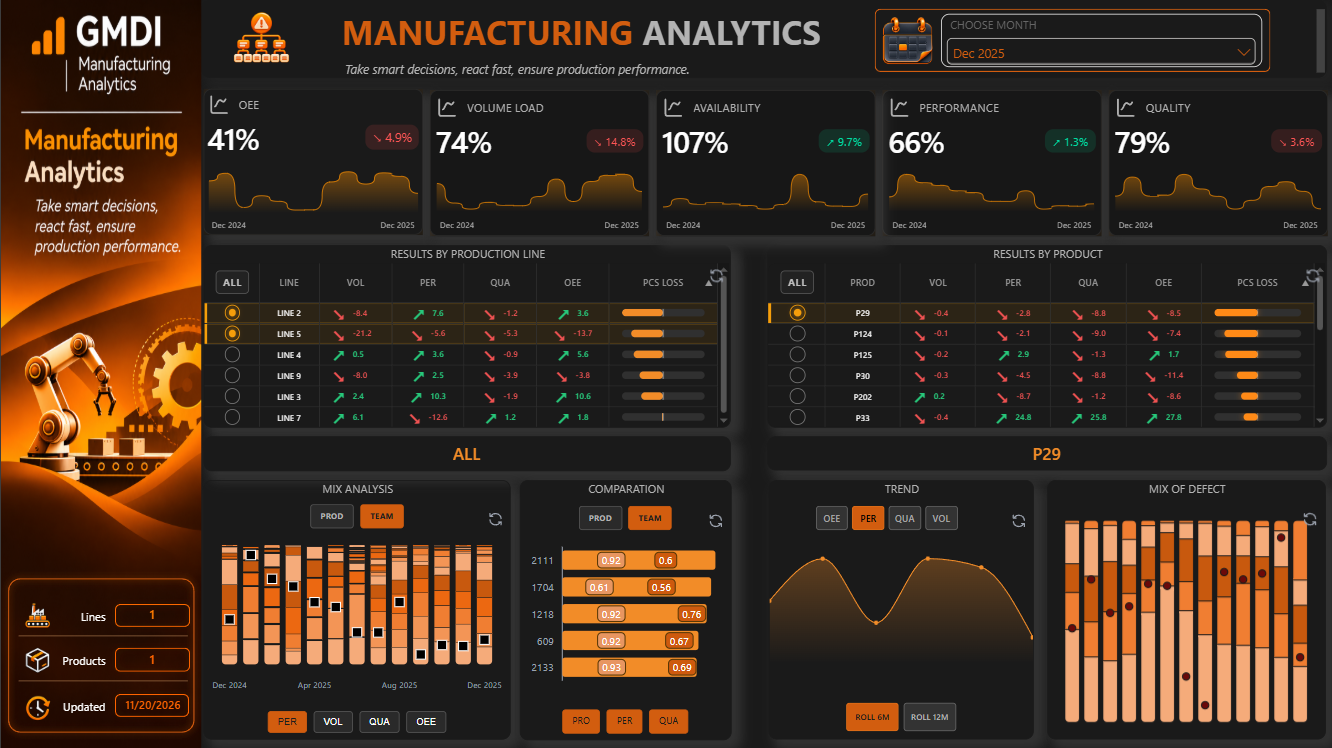

The page's visual inventory and layout, read from the dashboard file:
{"tool":"powerbi","page":{"name":"OEE REPORT","canvas":[1280,720],"ordinal":0},"visuals":[{"type":"textbox","box":[192,0,1079,74],"z":0},{"type":"shape","box":[838.2,8.7,379.4,60.6],"z":1000},{"type":"textbox","box":[0,74.4,178.9,31.1],"z":2000},{"type":"image","box":[840,14.4,58.9,48.9],"z":3000},{"type":"slicer","fields":{"Values":["Dim_Date.YearMonth"]},"box":[901.1,13.3,307.8,51.1],"z":4000},{"type":"gMDIKPICardCF49CA4C62AD4375B8151114AD89D5C0","fields":{"kpiValue":["MeasuresCollection.OEE"],"trendValue":["MeasuresCollection.OEE vs Last Month pp KI"],"trendDate":["Dim_ChartMonth.MonthStart"],"trendHistory":["MeasuresCollection.OEE Rolling 12M"]},"box":[194.4,85.6,210,140],"z":5000},{"type":"gMDIKPICardCF49CA4C62AD4375B8151114AD89D5C0","fields":{"trendDate":["Dim_ChartMonth.MonthStart"],"kpiValue":["MeasuresCollection.VOLUME LOAD"],"trendValue":["MeasuresCollection.VOLUME LOAD vs Last Month pp KI"],"trendHistory":["MeasuresCollection.VOLUME LOAD Rolling 12M"]},"box":[411.4,86.5,210,140],"z":6000},{"type":"gMDIKPICardCF49CA4C62AD4375B8151114AD89D5C0","fields":{"trendDate":["Dim_ChartMonth.MonthStart"],"trendHistory":["MeasuresCollection.PERFORMANCED Rolling 12M"],"kpiValue":["MeasuresCollection.PERFORMANCE"],"trendValue":["MeasuresCollection.PERFORMANCE vs Last month pp KI"]},"box":[845.2,86.5,210,140],"z":7000},{"type":"gMDIKPICardCF49CA4C62AD4375B8151114AD89D5C0","fields":{"trendDate":["Dim_ChartMonth.MonthStart"],"kpiValue":["MeasuresCollection.QUALITY"],"trendHistory":["MeasuresCollection.QUALITY Rolling 12M"],"trendValue":["MeasuresCollection.QUALITY vs Last month pp KI"]},"box":[1062.1,86.5,210,140],"z":8000},{"type":"gMDIDataTableBD95C09AE30643DA9A8C90D86C48B46F","title":"RESULTS BY PRODUCTION LINE","fields":{"category":["Dim_Line.Display_Name"],"measures":["MeasuresCollection.VOLUME LOAD vs Last Month pp KI","MeasuresCollection.PERFORMANCE vs Last month pp KI","MeasuresCollection.QUALITY vs Last month pp KI","MeasuresCollection.OEE vs Last Month pp KI","MeasuresCollection.TOTAL PCS LOSS"]},"box":[194.4,234.4,505.6,175.6],"z":9000},{"type":"gMDIDataTableBD95C09AE30643DA9A8C90D86C48B46F","title":"RESULTS BY PRODUCT","fields":{"measures":["MeasuresCollection.VOLUME LOAD BY PROD vs Last Month pp","MeasuresCollection.PERFORMANCE BY PROD vs Last month pp KI","MeasuresCollection.QUALITY BY PROD vs Last month pp KI","MeasuresCollection.OEE BY PROD vs Last Month pp KI","MeasuresCollection.TOTAL PCS LOSS"],"category":["ArticleBase.ProductName"]},"box":[734.4,234.4,536.7,175.6],"z":10000},{"type":"cardVisual","fields":{"Data":["MeasuresCollection.SELECTED LINE"]},"box":[194.4,417.8,505.6,33.3],"z":11000},{"type":"image","box":[217.8,8.9,63.3,55.6],"z":12000},{"type":"cardVisual","fields":{"Data":["MeasuresCollection.SELECTED PRODUCT"]},"box":[734.4,417.8,536.7,33],"z":13000},{"type":"gmdiMixAnalysis724970BA8259407F8146C7C550D96011","title":"MIX ANALYSIS","fields":{"period":["Dim_ChartMonth.MonthStart"],"value":["MeasuresCollection.PRODUCED Rolling 12M"],"mixCategory2":["Dim_Team.Team"],"secondaryKPI":["MeasuresCollection.PERFORMANCED Rolling 12M"],"secondaryKPI1":["MeasuresCollection.PERFORMANCED Rolling 12M"],"secondaryKPI2":["MeasuresCollection.VOLUME LOAD Rolling 12M"],"secondaryKPI3":["MeasuresCollection.QUALITY Rolling 12M"],"secondaryKPI4":["MeasuresCollection.OEE Rolling 12M"],"mixCategory1":["ArticleBase.ProductName"]},"box":[194.4,460,294.4,249],"z":14000},{"type":"F125087AA5064CCDA1C6973BD3927F42","title":"COMPARATION","fields":{"measure1":["MeasuresCollection.PRODUCED"],"measure2":["MeasuresCollection.PERFORMANCE BY PROD"],"measure3":["MeasuresCollection.QUALITY BY PROD"],"category2":["Dim_Team.Team"],"category1":["ArticleBase.ProductName"]},"box":[496.9,460,203.1,249.2],"z":15000},{"type":"gmdiTrendAnalysis724970BA8259407F8146C7C550D96011","title":"TREND ","fields":{"dateAxis":["Dim_ChartMonth.MonthStart"],"trendMeasure1":["MeasuresCollection.OEE Trend"],"trendMeasure2":["MeasuresCollection.Performance Trend"],"trendMeasure3":["MeasuresCollection.QUALITY Trend"],"trendMeasure4":["MeasuresCollection.VOLUME LOAD Trend"]},"box":[735.6,460,254.4,249],"z":16000},{"type":"gmdiMixAnalysis724970BA8259407F8146C7C550D96011","title":"MIX OF DEFECT","fields":{"mixCategory1":["Dim_Defect.Defect"],"value":["MeasuresCollection.SCRAP BY PROD Rolling 12M"],"period":["Dim_ChartMonth.MonthStart"],"secondaryKPI1":["MeasuresCollection.QUALITY BY PROD Rolling 12M"]},"box":[1003.7,459.6,266.8,249.1],"z":17000},{"type":"image","box":[0,0,192.2,720],"z":18000},{"type":"shape","box":[0,547.7,192.3,161.5],"z":19000},{"type":"textbox","box":[50,574.8,50,29],"z":20000},{"type":"textbox","box":[50,617,50,33.3],"z":21000},{"type":"textbox","box":[50,662.1,50,33.3],"z":22000},{"type":"cardVisual","fields":{"Data":["MeasuresCollection.ACTIVE LINES"]},"box":[97.8,567.8,94.4,44.4],"z":23000},{"type":"cardVisual","fields":{"Data":["MeasuresCollection.ACTIVE PRODUCTS"]},"box":[97.8,610,94.4,45.6],"z":24000},{"type":"shape","box":[16.9,590.2,162.2,40],"z":24001},{"type":"cardVisual","fields":{"Data":["MeasuresCollection.ACTIVE UPDATE"]},"box":[97.8,654.4,93.3,44.4],"z":24004},{"type":"shape","box":[16.7,633.3,162.2,40],"z":24005},{"type":"image","box":[22.9,577.6,25,25],"z":24006},{"type":"image","box":[22.9,621.2,25,25],"z":24007},{"type":"image","box":[22.9,665.9,25,25],"z":24008},{"type":"gMDIKPICardCF49CA4C62AD4375B8151114AD89D5C0","fields":{"trendDate":["Dim_ChartMonth.MonthStart"],"kpiValue":["MeasuresCollection.AVAILABILITY"],"trendValue":["MeasuresCollection.AVAILABILITY vs Last month pp KI"],"trendHistory":["MeasuresCollection.AVAILABILITY Rolling 12M"]},"box":[628.3,86.5,210,140],"z":24009}]}

Visuals, with their boxes in screenshot pixels (x1, y1, x2, y2), scaled from the page's 1280x720 canvas onto the 1332x748 screenshot:
textbox: rect(200, 0, 1323, 77)
shape: rect(872, 9, 1267, 72)
textbox: rect(0, 77, 186, 110)
image: rect(874, 15, 935, 66)
slicer - Dim_Date.YearMonth: rect(938, 14, 1258, 67)
gMDIKPICardCF49CA4C62AD4375B8151114AD89D5C0 - MeasuresCollection.OEE x MeasuresCollection.OEE vs Last Month pp KI: rect(202, 89, 421, 234)
gMDIKPICardCF49CA4C62AD4375B8151114AD89D5C0 - Dim_ChartMonth.MonthStart x MeasuresCollection.VOLUME LOAD: rect(428, 90, 647, 235)
gMDIKPICardCF49CA4C62AD4375B8151114AD89D5C0 - Dim_ChartMonth.MonthStart x MeasuresCollection.PERFORMANCED Rolling 12M: rect(880, 90, 1098, 235)
gMDIKPICardCF49CA4C62AD4375B8151114AD89D5C0 - Dim_ChartMonth.MonthStart x MeasuresCollection.QUALITY: rect(1105, 90, 1324, 235)
"RESULTS BY PRODUCTION LINE" gMDIDataTableBD95C09AE30643DA9A8C90D86C48B46F: rect(202, 244, 728, 426)
"RESULTS BY PRODUCT" gMDIDataTableBD95C09AE30643DA9A8C90D86C48B46F: rect(764, 244, 1323, 426)
cardVisual - MeasuresCollection.SELECTED LINE: rect(202, 434, 728, 469)
image: rect(227, 9, 293, 67)
cardVisual - MeasuresCollection.SELECTED PRODUCT: rect(764, 434, 1323, 468)
"MIX ANALYSIS" gmdiMixAnalysis724970BA8259407F8146C7C550D96011: rect(202, 478, 509, 737)
"COMPARATION" F125087AA5064CCDA1C6973BD3927F42: rect(517, 478, 728, 737)
"TREND " gmdiTrendAnalysis724970BA8259407F8146C7C550D96011: rect(765, 478, 1030, 737)
"MIX OF DEFECT" gmdiMixAnalysis724970BA8259407F8146C7C550D96011: rect(1044, 477, 1322, 736)
image: rect(0, 0, 200, 747)
shape: rect(0, 569, 200, 737)
textbox: rect(52, 597, 104, 627)
textbox: rect(52, 641, 104, 676)
textbox: rect(52, 688, 104, 722)
cardVisual - MeasuresCollection.ACTIVE LINES: rect(102, 590, 200, 636)
cardVisual - MeasuresCollection.ACTIVE PRODUCTS: rect(102, 634, 200, 681)
shape: rect(18, 613, 186, 655)
cardVisual - MeasuresCollection.ACTIVE UPDATE: rect(102, 680, 199, 726)
shape: rect(17, 658, 186, 699)
image: rect(24, 600, 50, 626)
image: rect(24, 645, 50, 671)
image: rect(24, 692, 50, 718)
gMDIKPICardCF49CA4C62AD4375B8151114AD89D5C0 - Dim_ChartMonth.MonthStart x MeasuresCollection.AVAILABILITY: rect(654, 90, 872, 235)
